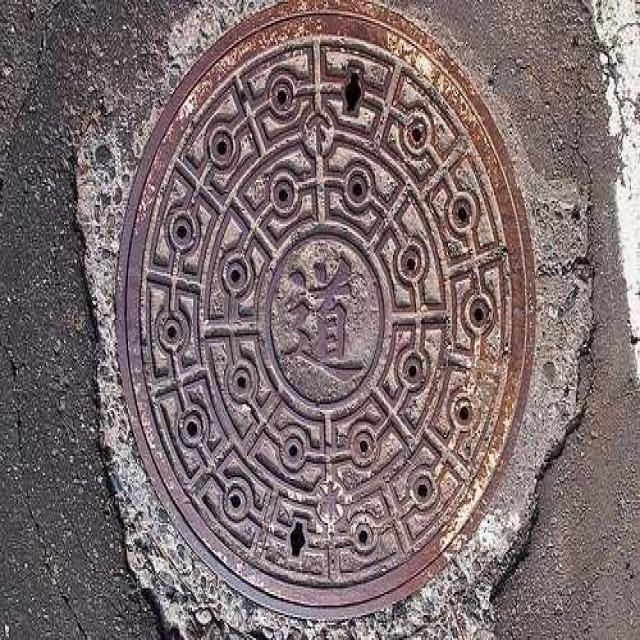manhole: (111, 8, 539, 627)
